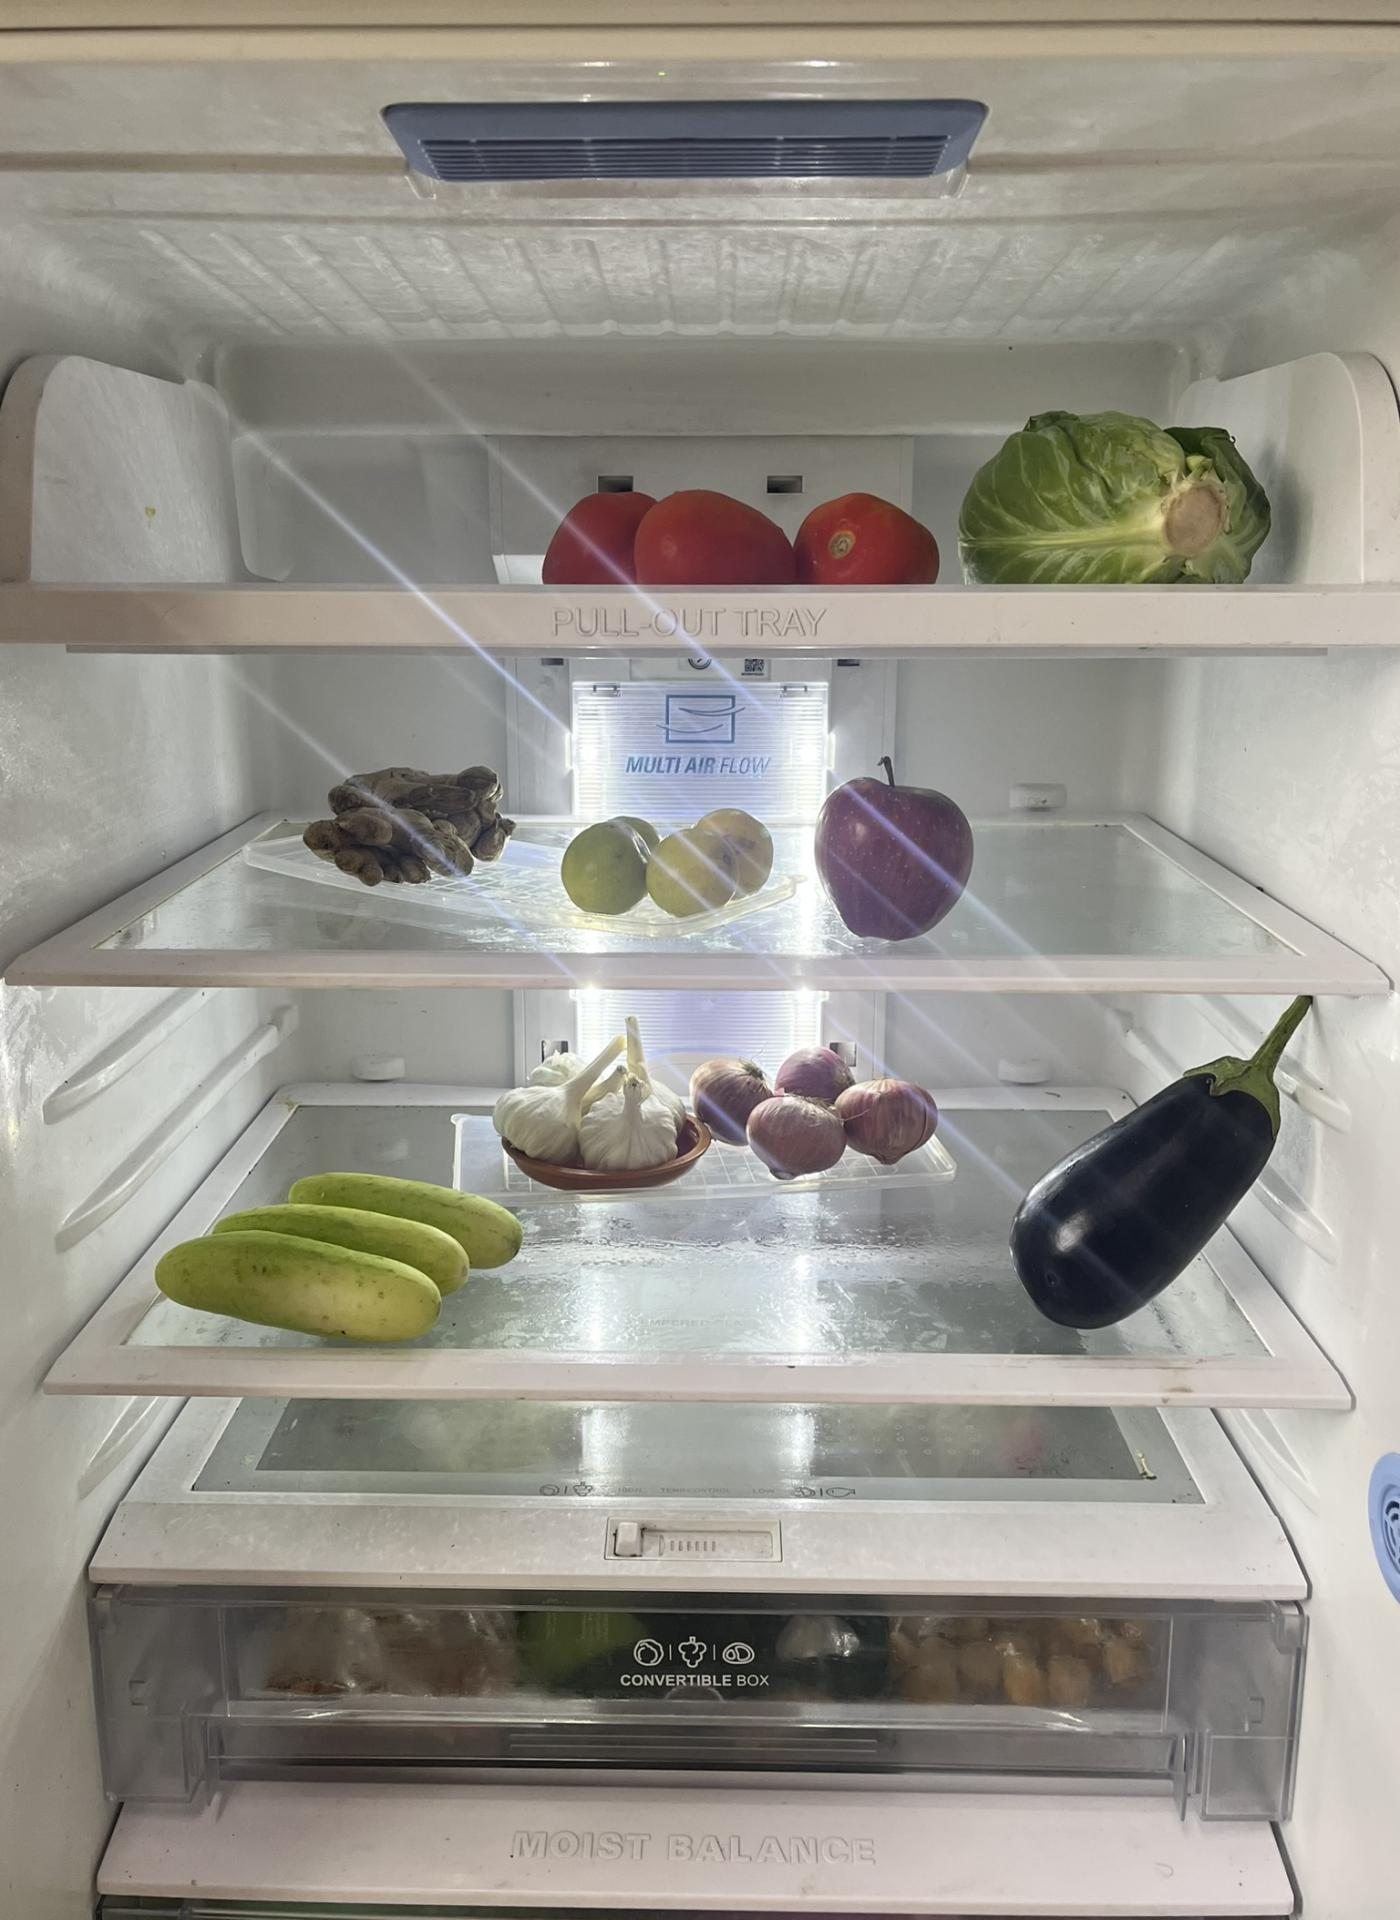apple: (817, 763, 975, 944)
brinjal: (1009, 990, 1314, 1334)
cabbage: (954, 405, 1272, 580)
cucumber: (140, 1170, 528, 1346)
garlic: (498, 1017, 695, 1173)
ginger: (307, 765, 510, 891)
lemon: (561, 808, 775, 918)
onion: (693, 1040, 942, 1178)
tomato: (546, 479, 950, 575)
